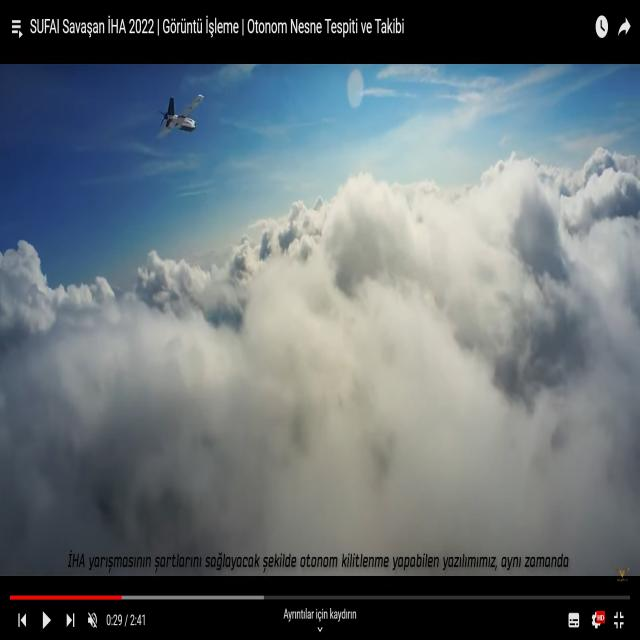iha: (154, 27, 205, 84)
